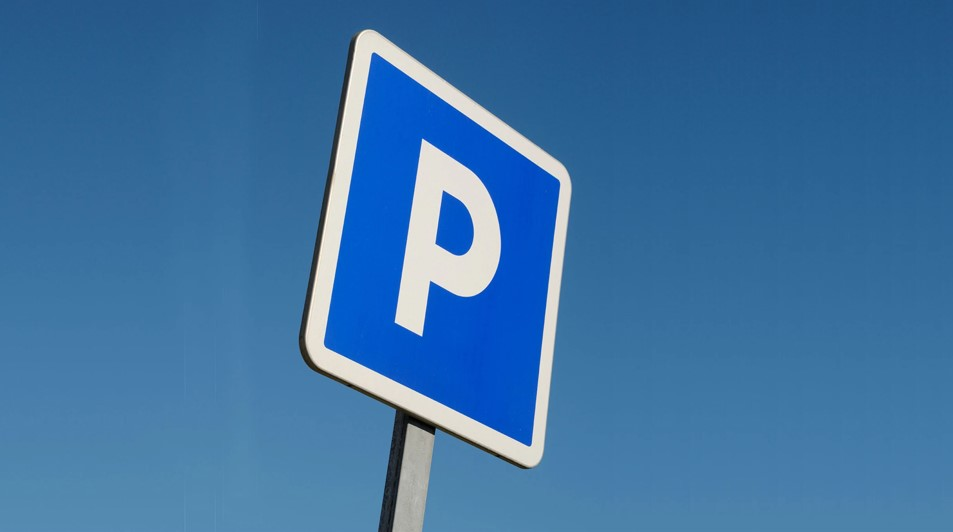Parking: (239, 53, 624, 438)
